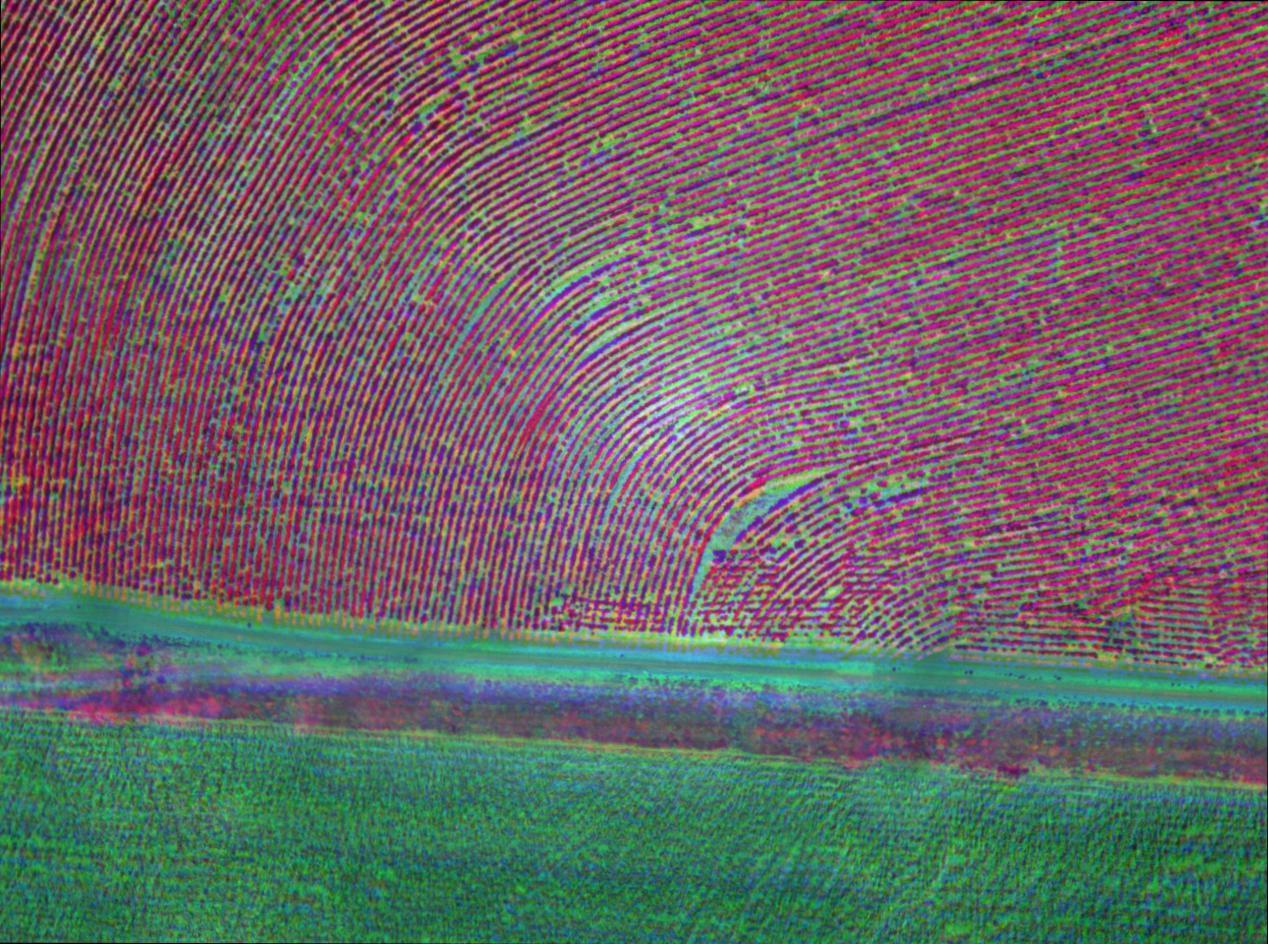dc: (383, 15, 541, 149), (591, 110, 729, 263), (558, 298, 683, 418), (693, 488, 811, 595), (186, 258, 301, 312)
